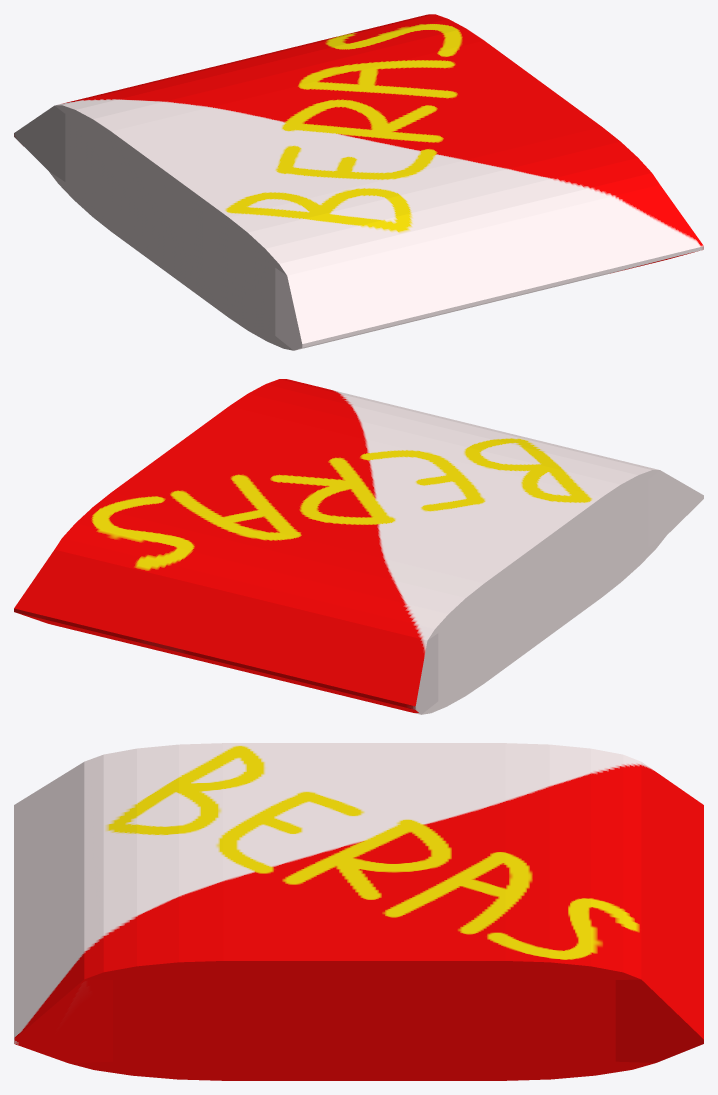
Rendered from Collectible Item.fbx_Rice.fbx.
3 renders of one model, top to bottom at view 1: azimuth 30°, elevation 25°; view 2: azimuth 150°, elevation 25°; view 3: azimuth 270°, elevation 25°, orthographic. The views are drawn at different scales.
Visible parts, largest first — view 1: Rice; view 2: Rice; view 3: Rice.
Boxes of the visible parts, x1,y1,x2,y2 form: Rice: [14, 14, 703, 350]; Rice: [14, 379, 703, 714]; Rice: [14, 743, 703, 1080].
Bounding box in the file's own units: 4.87 × 1.16 × 6.05.
Materials: 1 (1 with a texture image).
